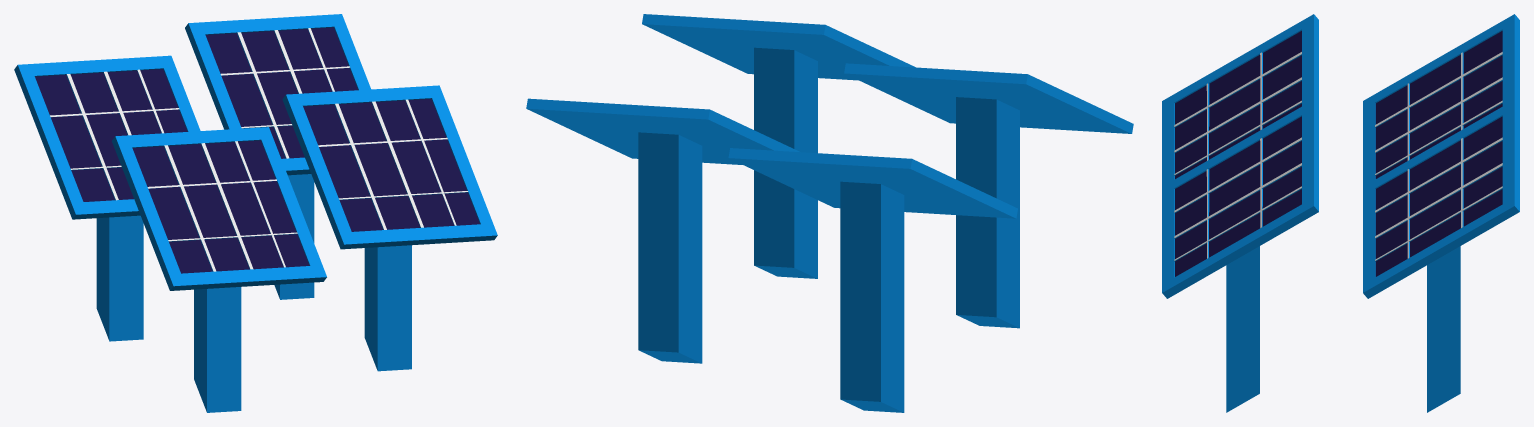
File: solar2.gltf
3 renders of one model, left to right at view 1: azimuth 30°, elevation 25°; view 2: azimuth 150°, elevation 25°; view 3: azimuth 270°, elevation 25°, orthographic. The views are drawn at different scales.
Parts seen in each view (by area): view 1: Cube.001, Cube.002, Cube, Cube.003; view 2: Cube, Cube.003, Cube.001, Cube.002; view 3: Cube.003, Cube.002, Cube.001, Cube.
Boxes of the visible parts, left/top/right/bottom form: Cube.001: left=112, top=127, right=326, bottom=412; Cube.002: left=282, top=85, right=497, bottom=371; Cube: left=14, top=55, right=200, bottom=341; Cube.003: left=185, top=14, right=370, bottom=299; Cube: left=728, top=148, right=1017, bottom=412; Cube.003: left=526, top=98, right=799, bottom=363; Cube.001: left=844, top=63, right=1133, bottom=328; Cube.002: left=642, top=14, right=915, bottom=278; Cube.003: left=1363, top=99, right=1519, bottom=412; Cube.002: left=1162, top=100, right=1318, bottom=412; Cube.001: left=1162, top=14, right=1318, bottom=186; Cube: left=1363, top=14, right=1519, bottom=186.
Size of the model in its own units: 2.04 by 1.51 by 1.8.
